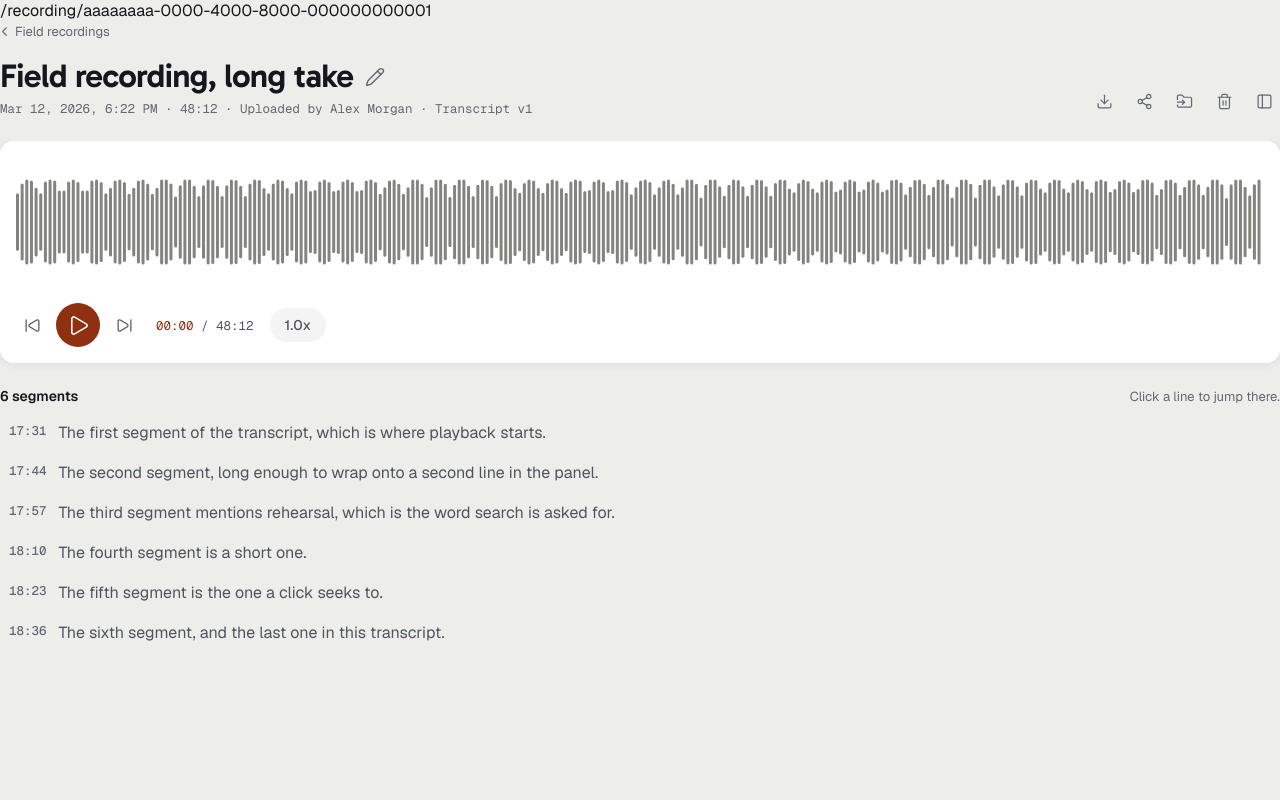
Scenario: moving it › does not offer the library it is already in as a destination
Click the button named "Move to another library" at (1184, 101), box [1168, 85, 1200, 117]
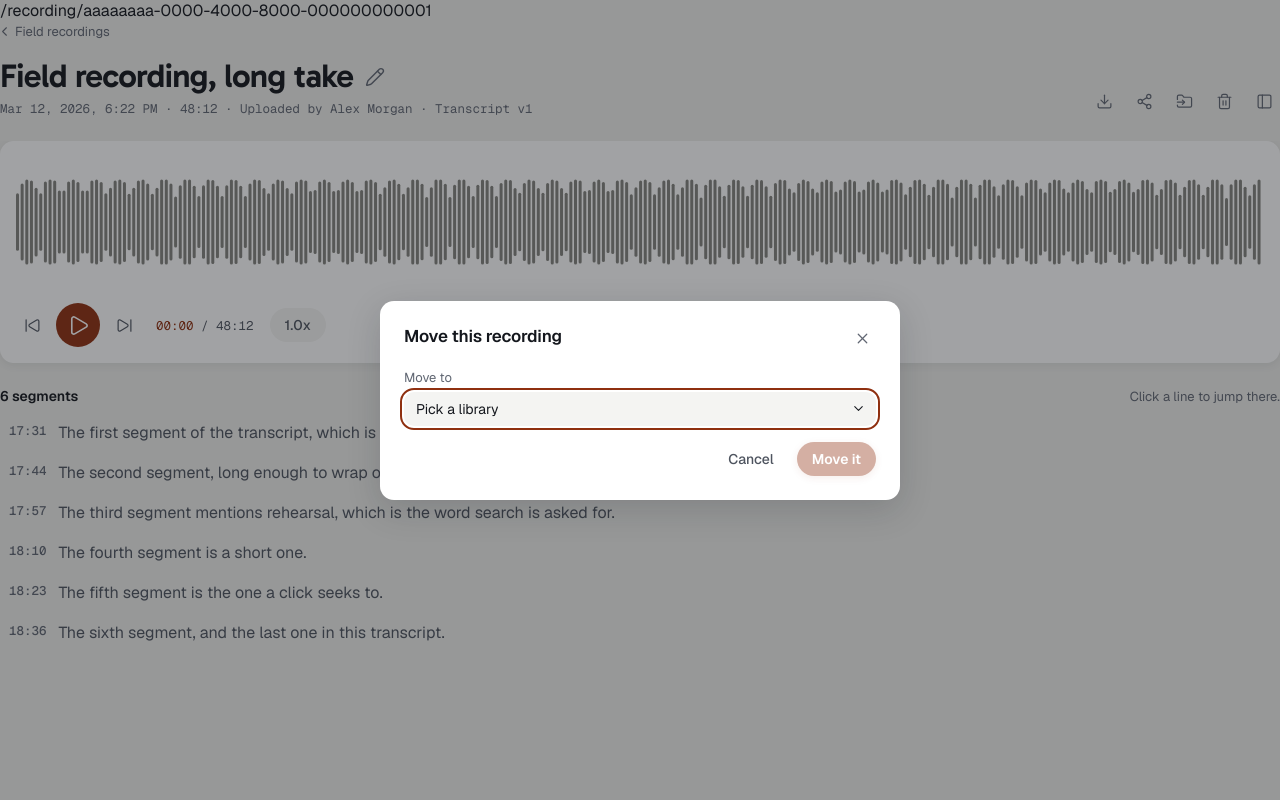
Click the dropdown named "Move to" at (457, 408), box [404, 392, 876, 426]
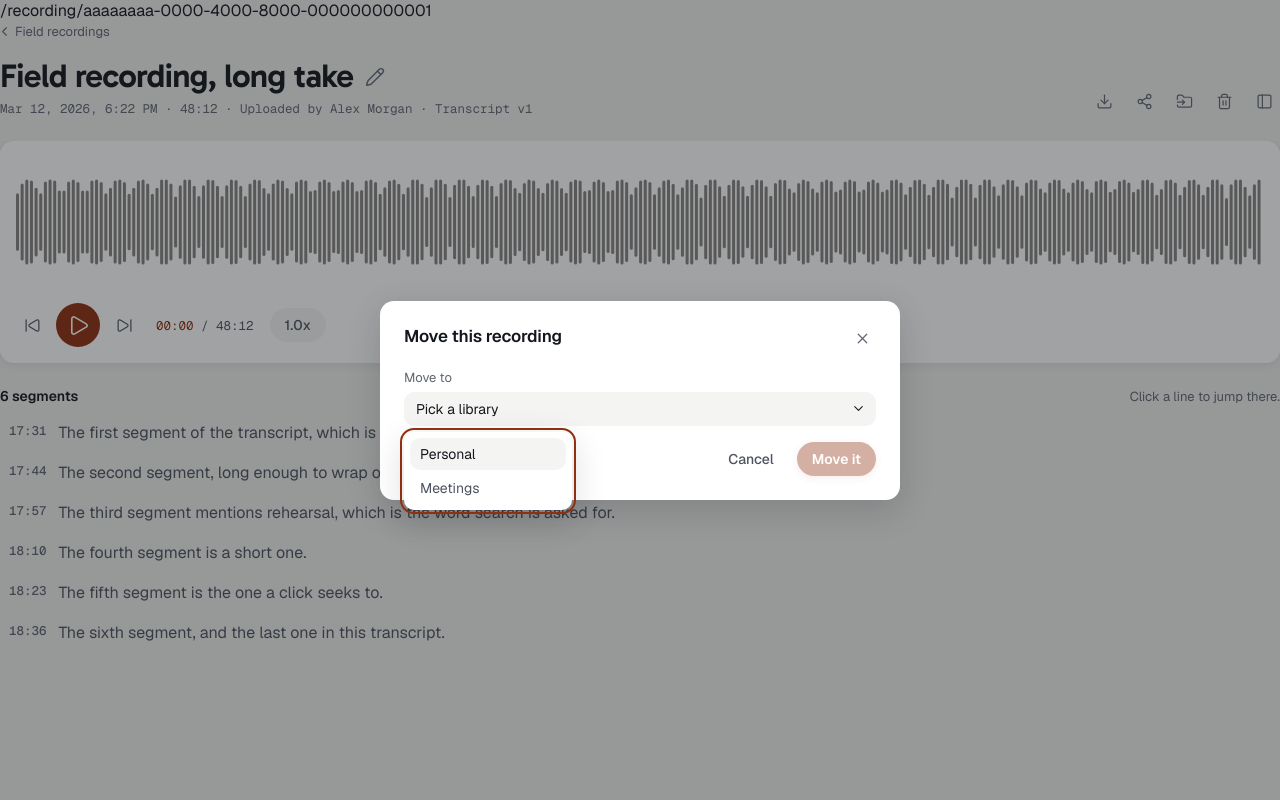
Expected: the option "Meetings" is shown, [420, 479, 480, 497]
